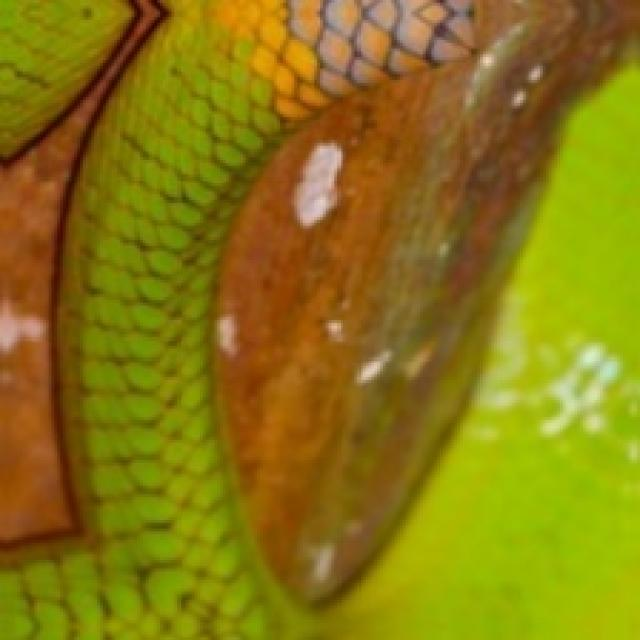red-tailed green ratsnake: (11, 0, 471, 639), (318, 64, 640, 639), (0, 0, 130, 157), (2, 560, 138, 640)
